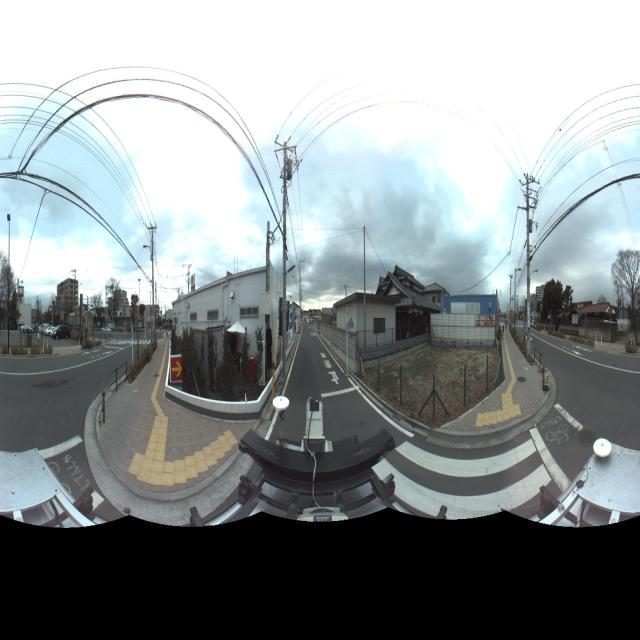b_1: (170, 262, 291, 367), (372, 257, 453, 349), (429, 274, 499, 352), (338, 275, 396, 366), (50, 272, 80, 328)
